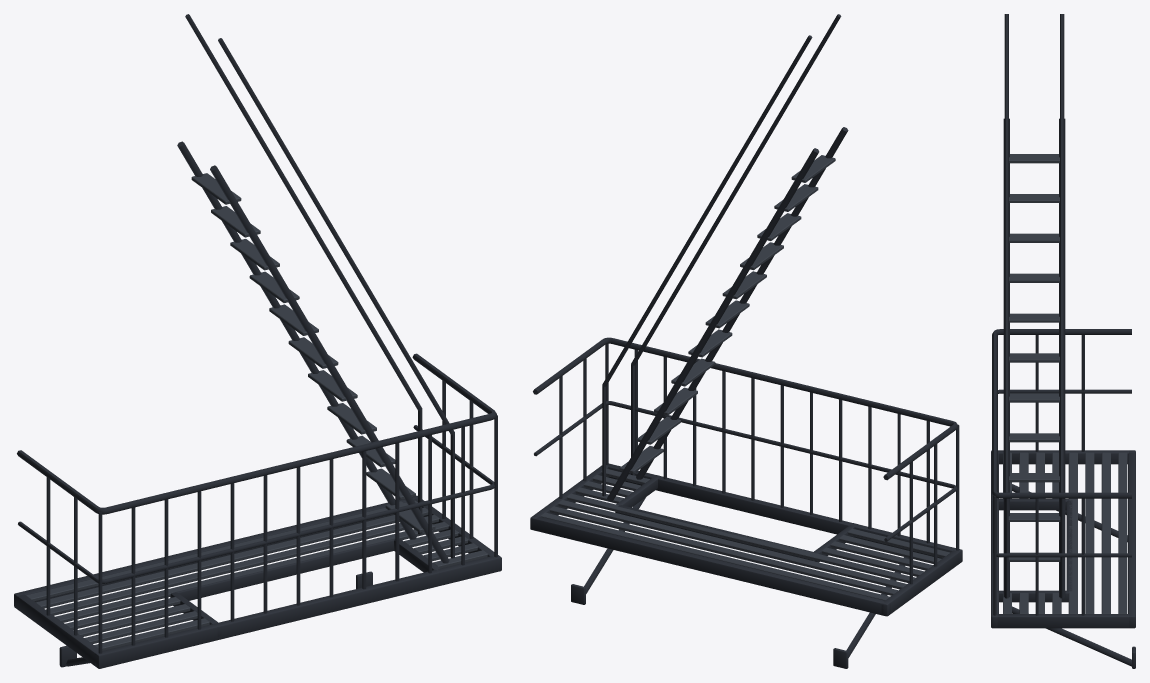
Rendered from escada_incendio_modulo.glb.
3 views of the same model, side by side, from view 1: azimuth 30°, elevation 25°; view 2: azimuth 150°, elevation 25°; view 3: azimuth 270°, elevation 25° (orthographic). The views are drawn at different scales.
Visible parts, largest first — view 1: escada_incendio_modulo; view 2: escada_incendio_modulo; view 3: escada_incendio_modulo.
Boxes of the visible parts, x1=… form: escada_incendio_modulo: x1=14, y1=14, x2=501, y2=668; escada_incendio_modulo: x1=530, y1=14, x2=962, y2=668; escada_incendio_modulo: x1=991, y1=14, x2=1135, y2=668.
Size of the model in its own units: 3 by 4.71 by 1.1.
1 material, 1 textured.
